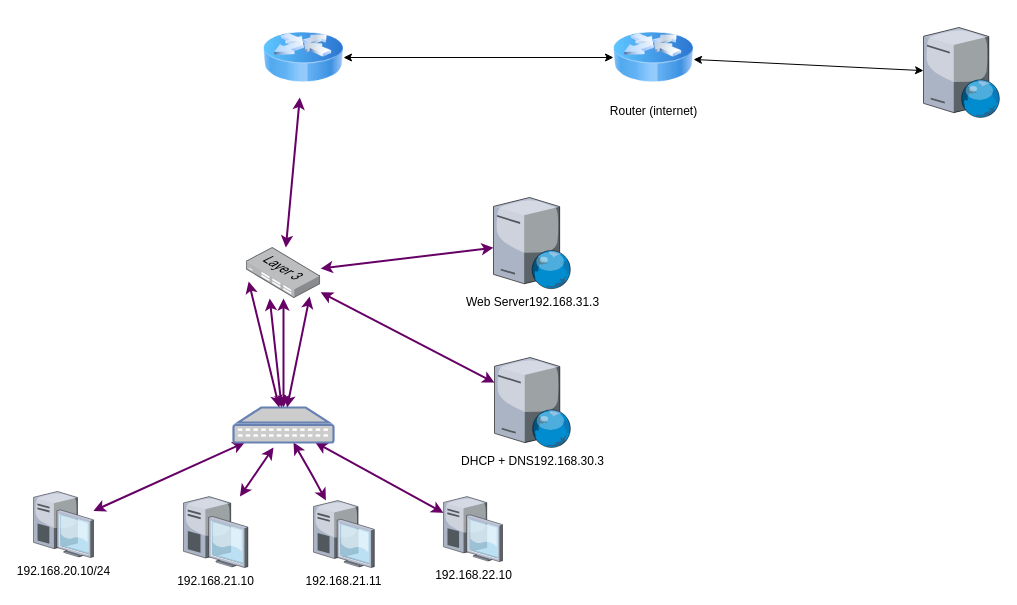
Image size: 1017x605. Some labels were removed from this diagram. The box of each missing label's shape, as (x1, y1, x2, y2) in pixels:
Patch Panel: (232, 406, 334, 443)
Router: (263, 17, 343, 97)
Web Server: (923, 27, 1000, 117)
